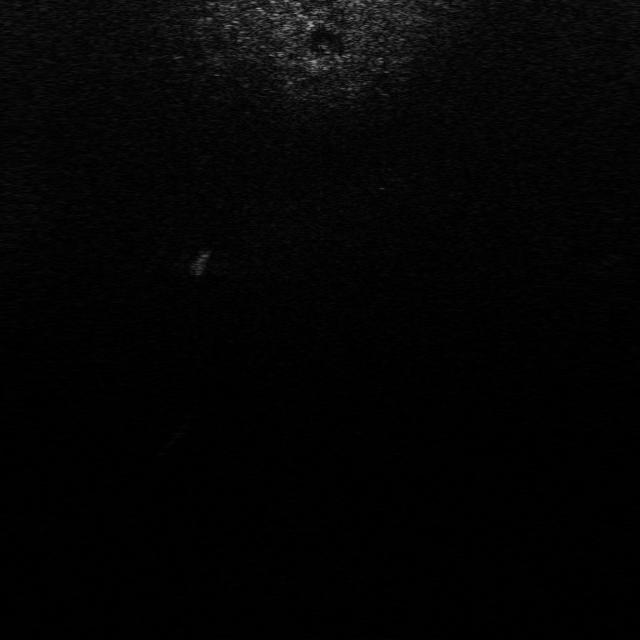cylinder: (186, 242, 214, 278)
